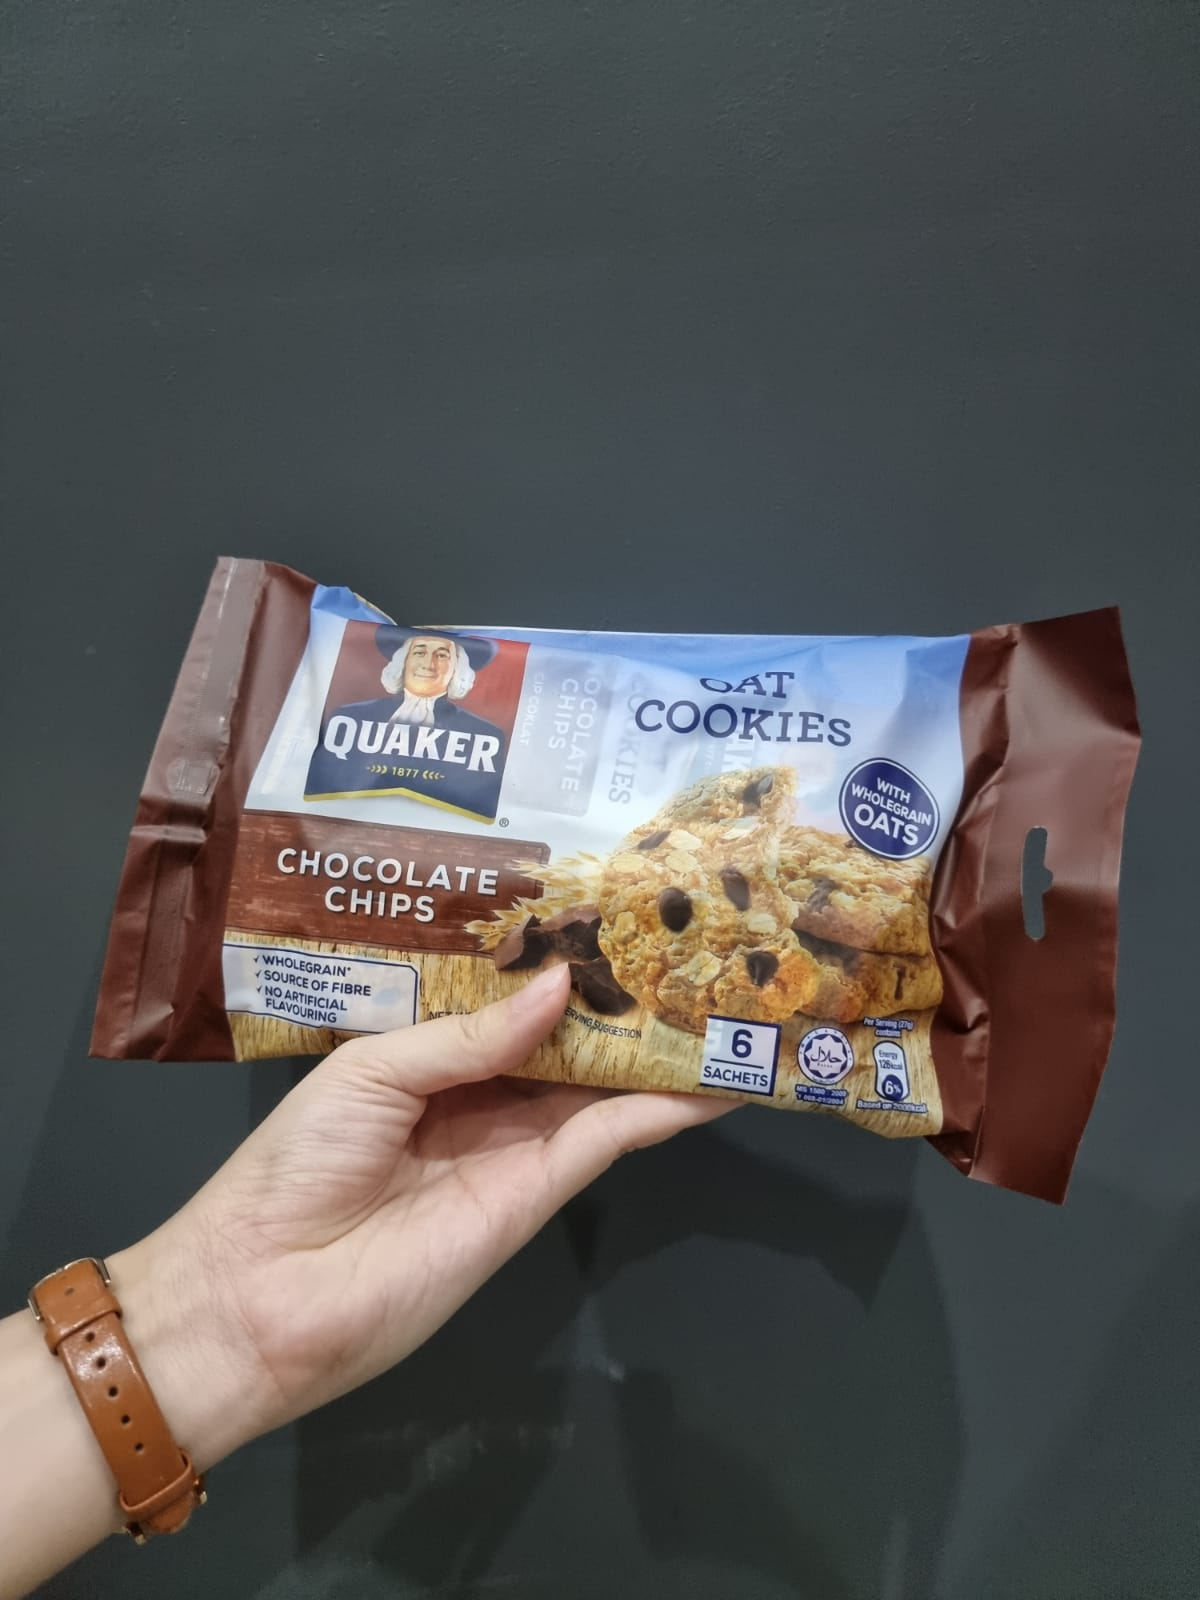Biscuits: (208, 619, 1013, 1100)
